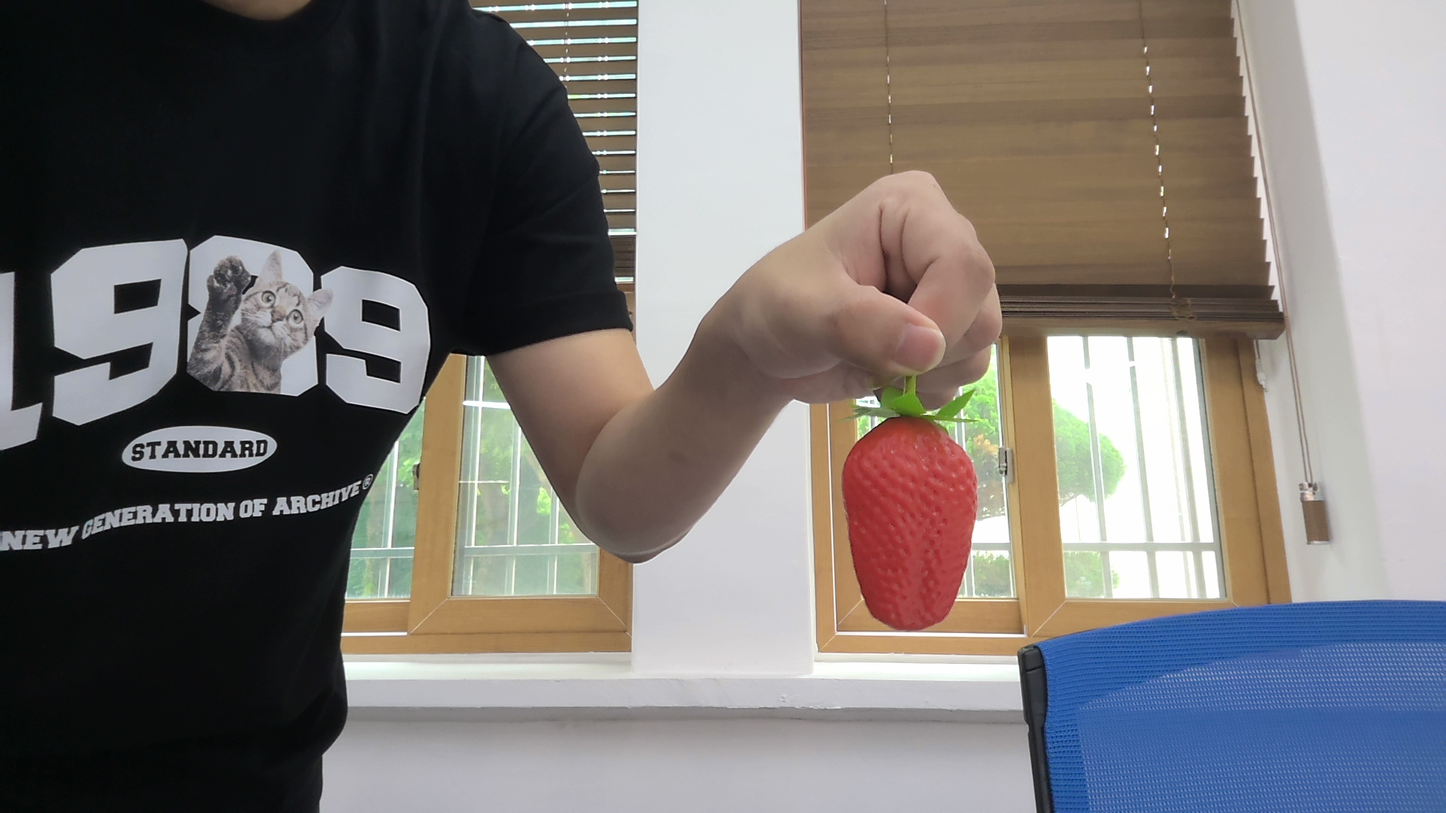strawberry: (839, 394, 982, 627)
